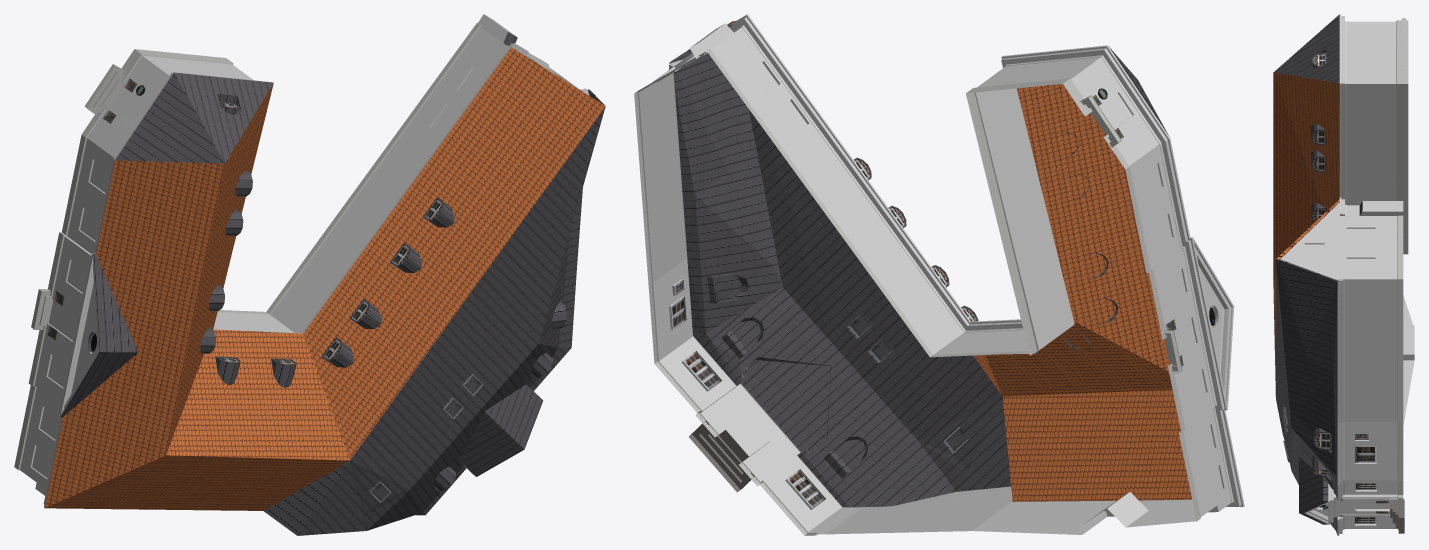
File: Rahukohtu-2.obj
The picture shows the model from 3 angles, left to right: view 1: azimuth 30°, elevation 25°; view 2: azimuth 150°, elevation 25°; view 3: azimuth 270°, elevation 25°; orthographic projection. The views are drawn at different scales.
Visible parts, largest first — view 1: Rahukohtu_2; view 2: Rahukohtu_2, xxx; view 3: Rahukohtu_2, xxx.
Boxes of the visible parts, box(x1,y1,x2,y2) form: Rahukohtu_2: box(14, 14, 605, 535); Rahukohtu_2: box(635, 14, 1244, 535); xxx: box(634, 63, 1012, 534); Rahukohtu_2: box(1273, 14, 1414, 535); xxx: box(1337, 279, 1403, 423).
Size of the model in its own units: 36.36 by 32.09 by 9.79.
